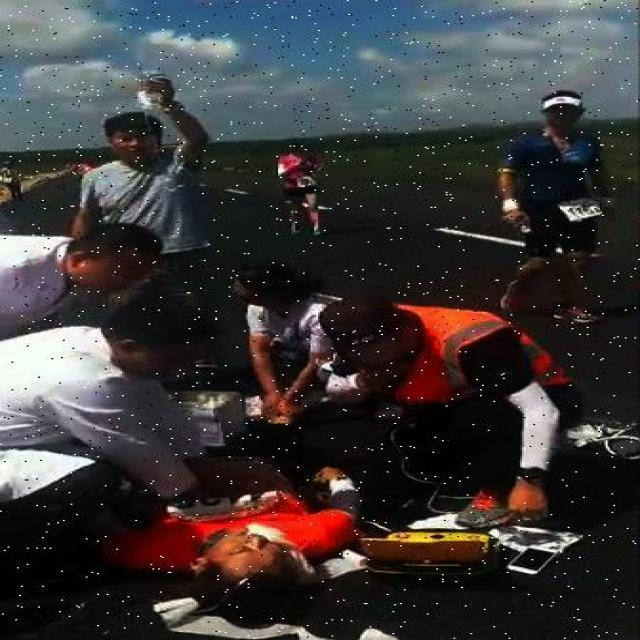fall: (107, 462, 366, 596)
